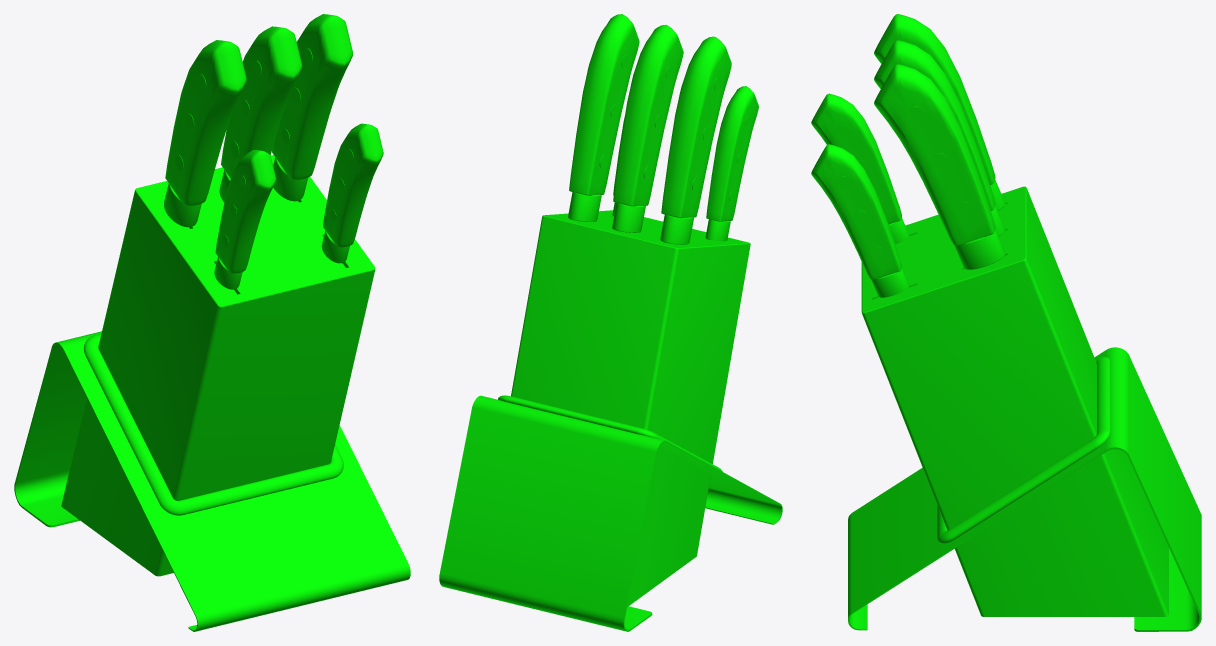
The model's file is Kitchen knives.fbx.
3 renders of one model, left to right at view 1: azimuth 30°, elevation 25°; view 2: azimuth 150°, elevation 25°; view 3: azimuth 270°, elevation 25°, orthographic. The views are drawn at different scales.
Parts seen in each view (by area): view 1: Kitchen knives; view 2: Kitchen knives; view 3: Kitchen knives.
Boxes of the visible parts, x1,y1,x2,y2 form: Kitchen knives: (14,14,410,631); Kitchen knives: (439,14,782,631); Kitchen knives: (811,14,1201,631).
Bounding box in the file's own units: 105 × 265 × 173.
